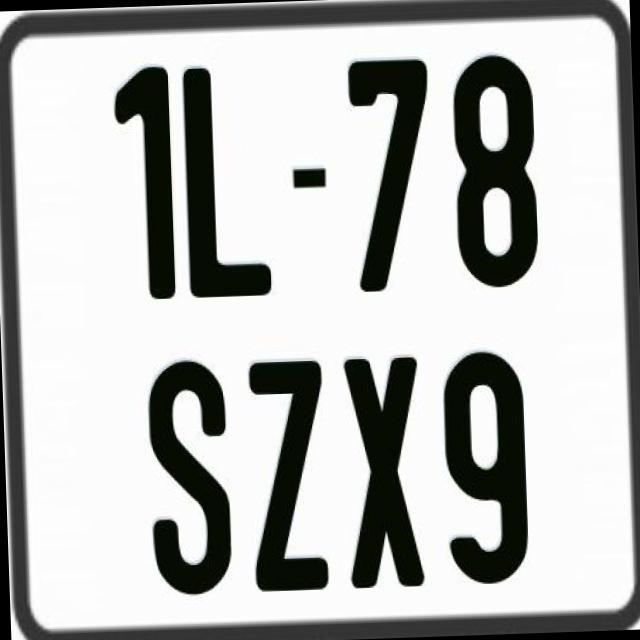1: (108, 65, 174, 302)
7: (344, 57, 431, 292)
8: (446, 50, 536, 288)
9: (440, 345, 530, 586)
L: (182, 64, 278, 305)
S: (146, 358, 238, 596)
X: (342, 356, 428, 596)
Z: (244, 358, 332, 593)
